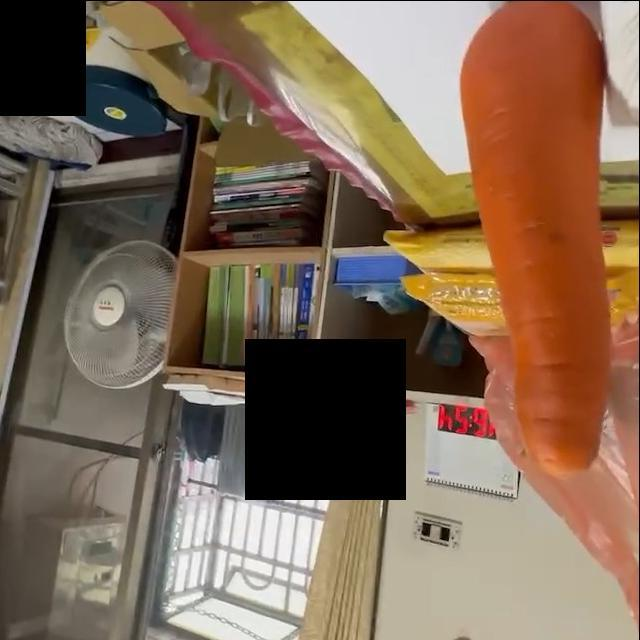carrot: (458, 1, 617, 477)
